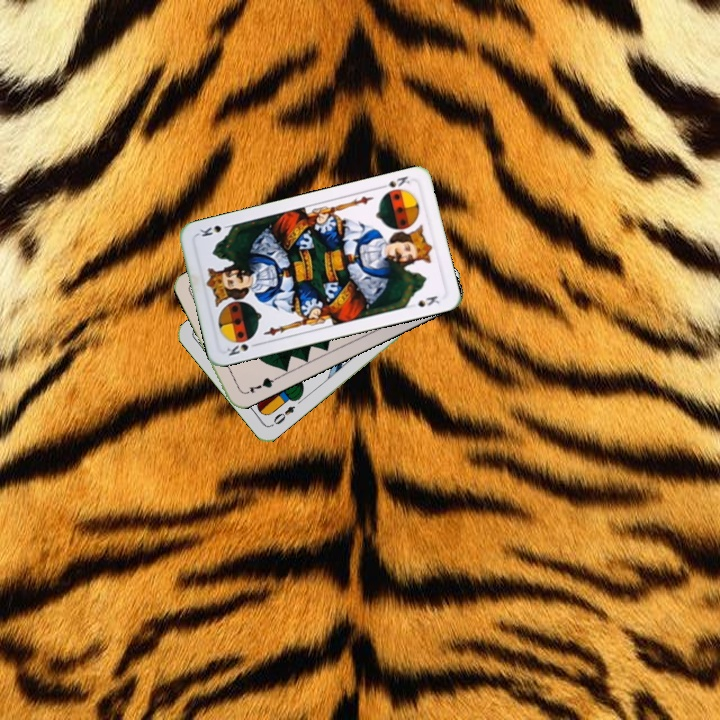EO: (267, 402, 298, 429)
G7: (240, 373, 279, 397)
SK: (223, 339, 262, 358), (375, 172, 412, 192)
